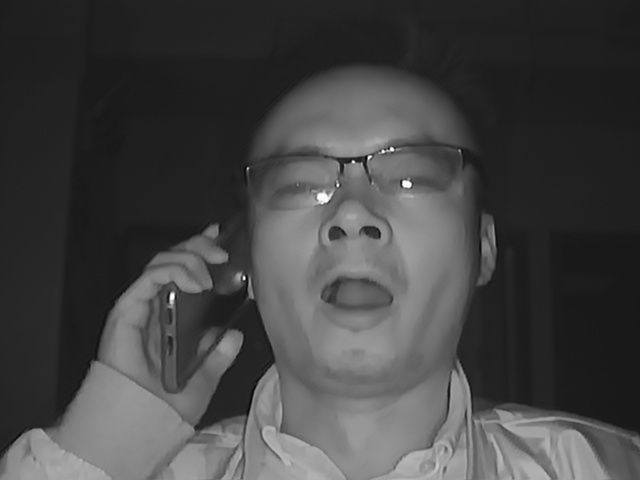hand: (102, 222, 244, 417)
